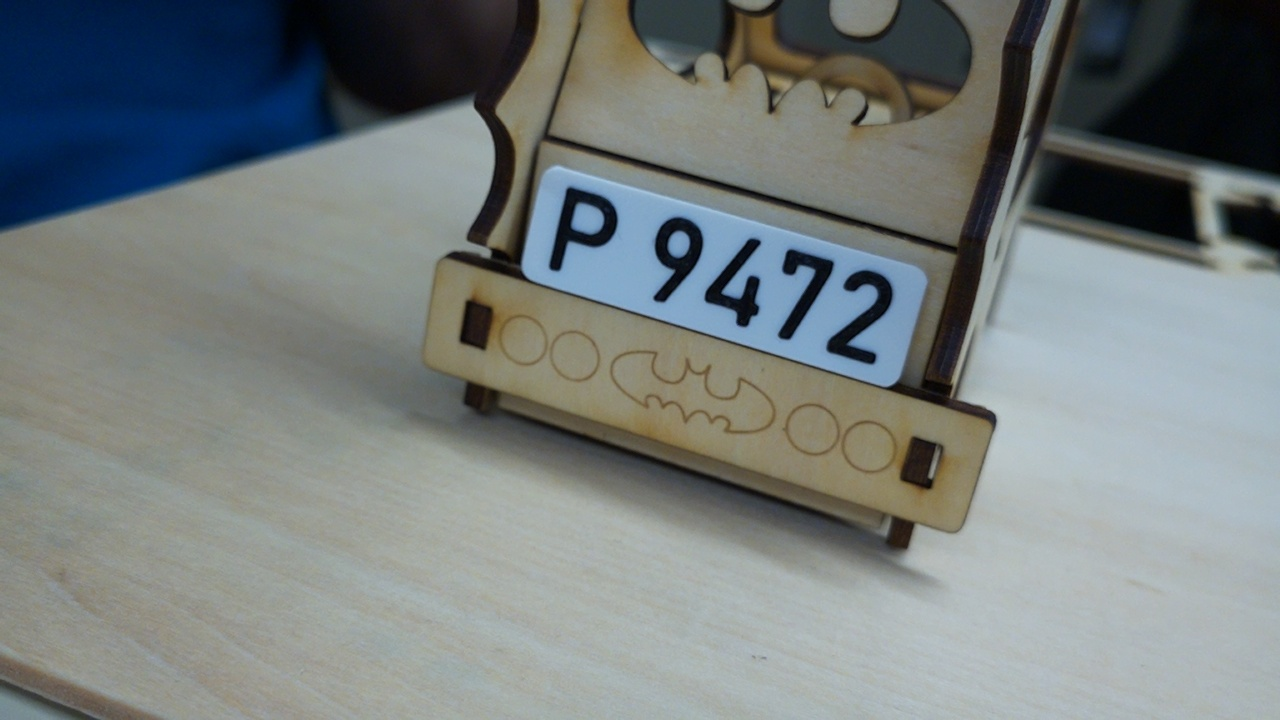license_plate: (519, 162, 931, 391)
